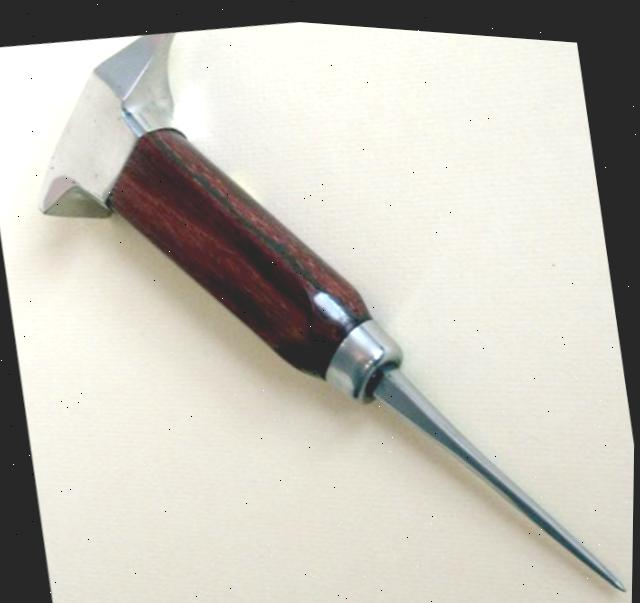ice pick: (7, 1, 633, 603)
